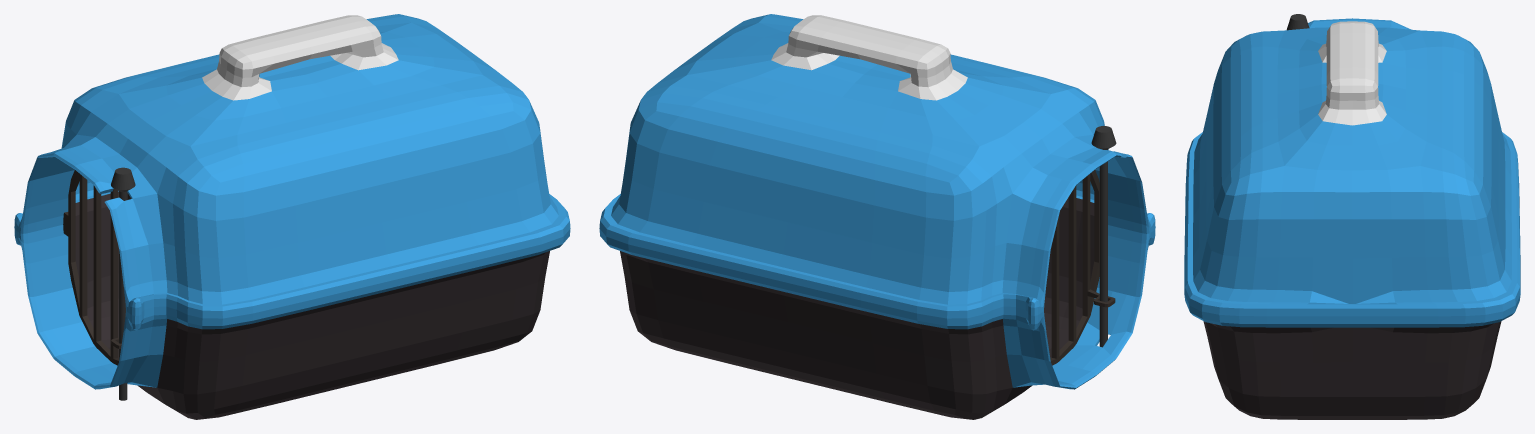
Rendered from cat_carrier.fbx.
3 views of the same model, side by side, from view 1: azimuth 30°, elevation 25°; view 2: azimuth 150°, elevation 25°; view 3: azimuth 270°, elevation 25° (orthographic). The views are drawn at different scales.
Visible parts, largest first — view 1: Cube, Cage, a_Lock; view 2: Cube, Cage, a_Lock; view 3: Cube.
Boxes of the visible parts, bbox=[...] form: Cube: bbox=[14, 14, 570, 419]; Cage: bbox=[63, 170, 131, 365]; a_Lock: bbox=[111, 167, 135, 400]; Cube: bbox=[599, 14, 1155, 419]; Cage: bbox=[1050, 170, 1115, 365]; a_Lock: bbox=[1091, 126, 1116, 347]; Cube: bbox=[1184, 18, 1520, 419].
Bounding box in the file's own units: 336 × 236 × 241.
